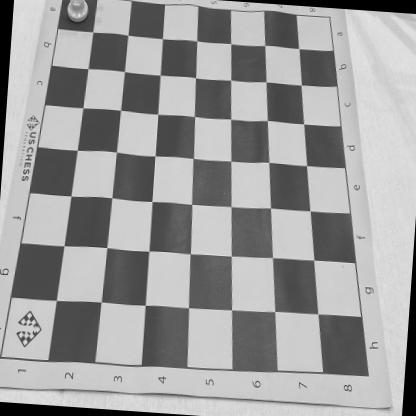knight: (64, 0, 91, 25)
